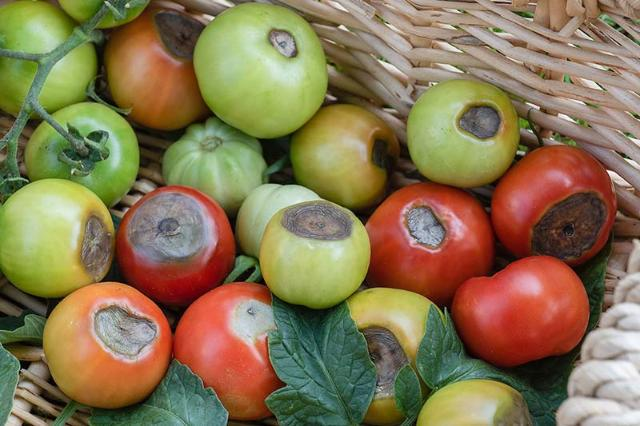defect: (40, 283, 174, 410), (490, 142, 621, 266), (114, 183, 238, 310), (366, 184, 495, 302), (0, 179, 117, 302), (404, 76, 522, 189), (258, 199, 372, 311)
